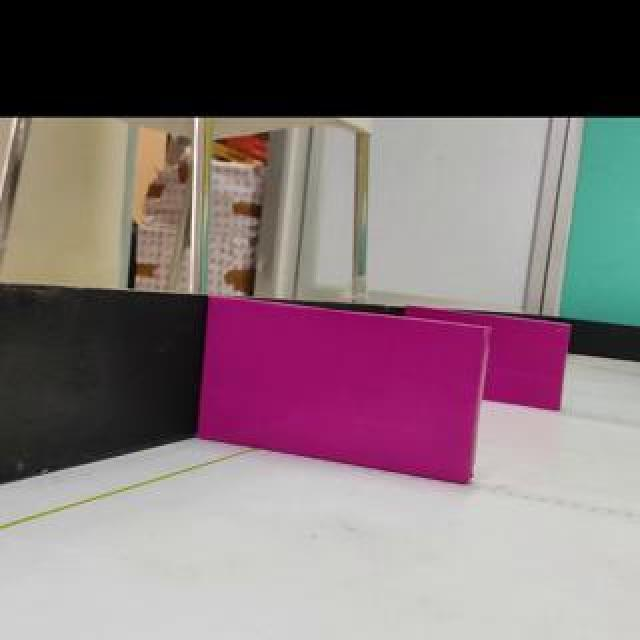xparking: (199, 296, 484, 484), (483, 313, 568, 411)
